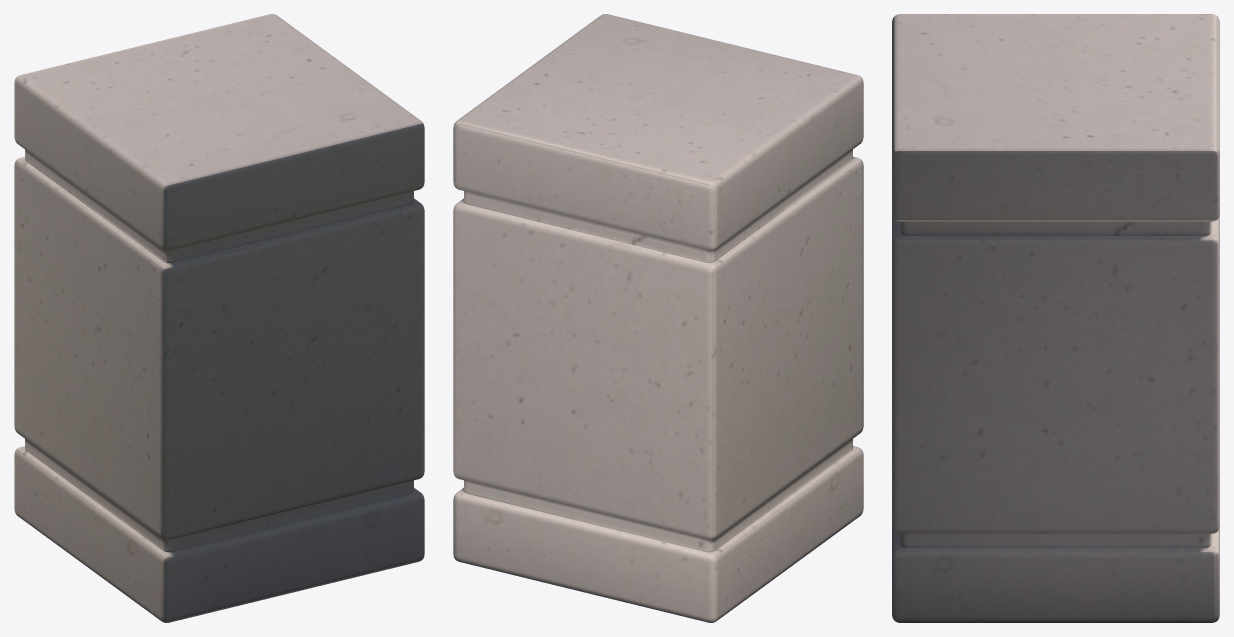
The model's file is w-rook.glb.
3 renders of one model, left to right at view 1: azimuth 30°, elevation 25°; view 2: azimuth 150°, elevation 25°; view 3: azimuth 270°, elevation 25°, orthographic. The views are drawn at different scales.
Parts seen in each view (by area): view 1: w-rook; view 2: w-rook; view 3: w-rook.
Boxes of the visible parts, left/top/right/bottom form: w-rook: left=14, top=14, right=424, bottom=622; w-rook: left=453, top=14, right=863, bottom=622; w-rook: left=892, top=14, right=1219, bottom=622.
Bounding box in the file's own units: 0.508 × 0.8128 × 0.508.
1 material, 1 textured.
